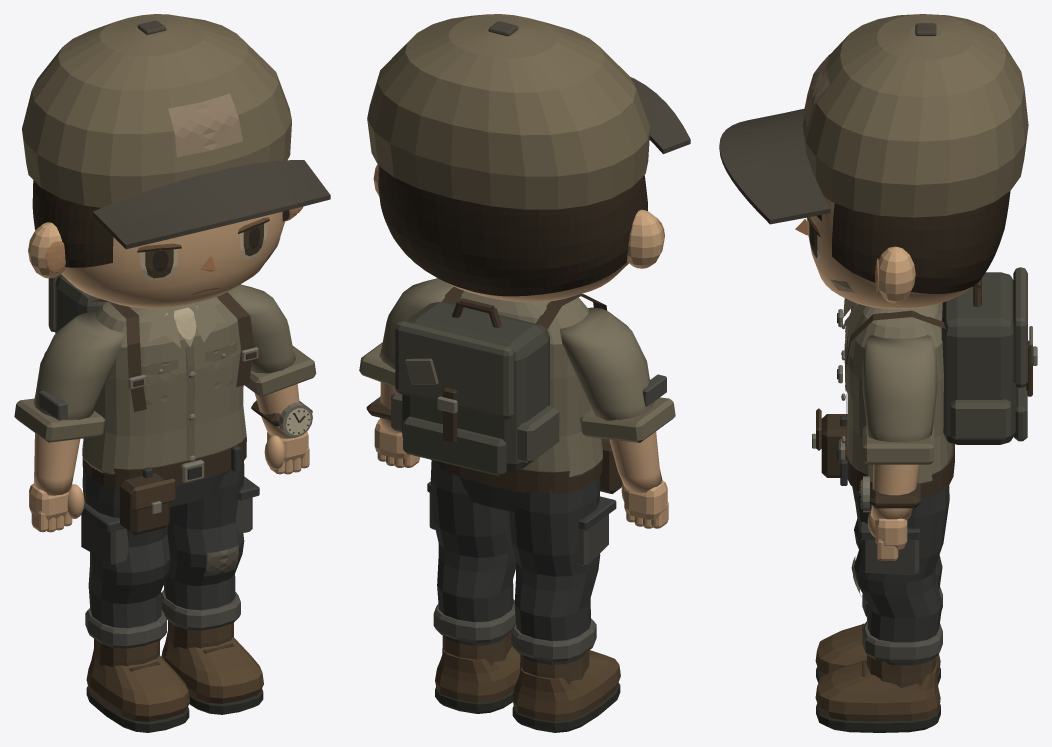
Rendered from CompactSurvivor.fbx.
3 renders of one model, left to right at view 1: azimuth 30°, elevation 25°; view 2: azimuth 150°, elevation 25°; view 3: azimuth 270°, elevation 25°, orthographic. The views are drawn at different scales.
Parts seen in each view (by area): view 1: Compact_Cap, Compact_Shirt, Compact_Trousers, Compact_Boots, Compact_Head, Compact_Backpack, Compact_Hair, Compact_Hands, Compact_Body, Compact_BeltPouch, Compact_Belt, Compact_FaceDetails (+1 smaller); view 2: Compact_Cap, Compact_Trousers, Compact_Backpack, Compact_Hair, Compact_Shirt, Compact_Boots, Compact_Head, Compact_Hands, Compact_Body, Compact_Belt, Compact_BeltPouch; view 3: Compact_Cap, Compact_Shirt, Compact_Backpack, Compact_Trousers, Compact_Hair, Compact_Boots, Compact_Head, Compact_Body, Compact_BeltPouch, Compact_Belt, Compact_Hands, Compact_Watch (+1 smaller).
Boxes of the visible parts, x1,y1,x2,y2 form: Compact_Cap: (22, 14, 330, 249); Compact_Shirt: (14, 284, 316, 474); Compact_Trousers: (81, 445, 259, 648); Compact_Boots: (86, 621, 263, 732); Compact_Head: (28, 206, 303, 308); Compact_Backpack: (44, 274, 258, 412); Compact_Hair: (32, 180, 289, 267); Compact_Hands: (29, 431, 309, 532); Compact_Body: (34, 384, 299, 495); Compact_BeltPouch: (120, 473, 175, 535); Compact_Belt: (82, 436, 246, 489); Compact_FaceDetails: (137, 217, 280, 294); Compact_Cap: (367, 14, 690, 209); Compact_Trousers: (427, 461, 616, 664); Compact_Backpack: (391, 286, 607, 476); Compact_Hair: (378, 166, 647, 296); Compact_Shirt: (359, 278, 675, 477); Compact_Boots: (435, 632, 620, 732); Compact_Head: (373, 164, 664, 302); Compact_Hands: (374, 419, 668, 528); Compact_Body: (379, 382, 662, 492); Compact_Belt: (431, 446, 602, 494); Compact_BeltPouch: (600, 438, 622, 493); Compact_Cap: (719, 14, 1028, 224); Compact_Shirt: (841, 298, 952, 484); Compact_Backpack: (837, 267, 1037, 444); Compact_Trousers: (840, 415, 949, 665); Compact_Hair: (832, 191, 1010, 293); Compact_Boots: (815, 618, 940, 732); Compact_Head: (806, 197, 971, 308); Compact_Body: (871, 464, 919, 520); Compact_BeltPouch: (812, 408, 847, 477); Compact_Belt: (837, 426, 954, 497); Compact_Hands: (867, 509, 907, 560); Compact_Watch: (858, 476, 920, 512).
Size of the model in its own units: 67.87 by 156 by 67.14.
